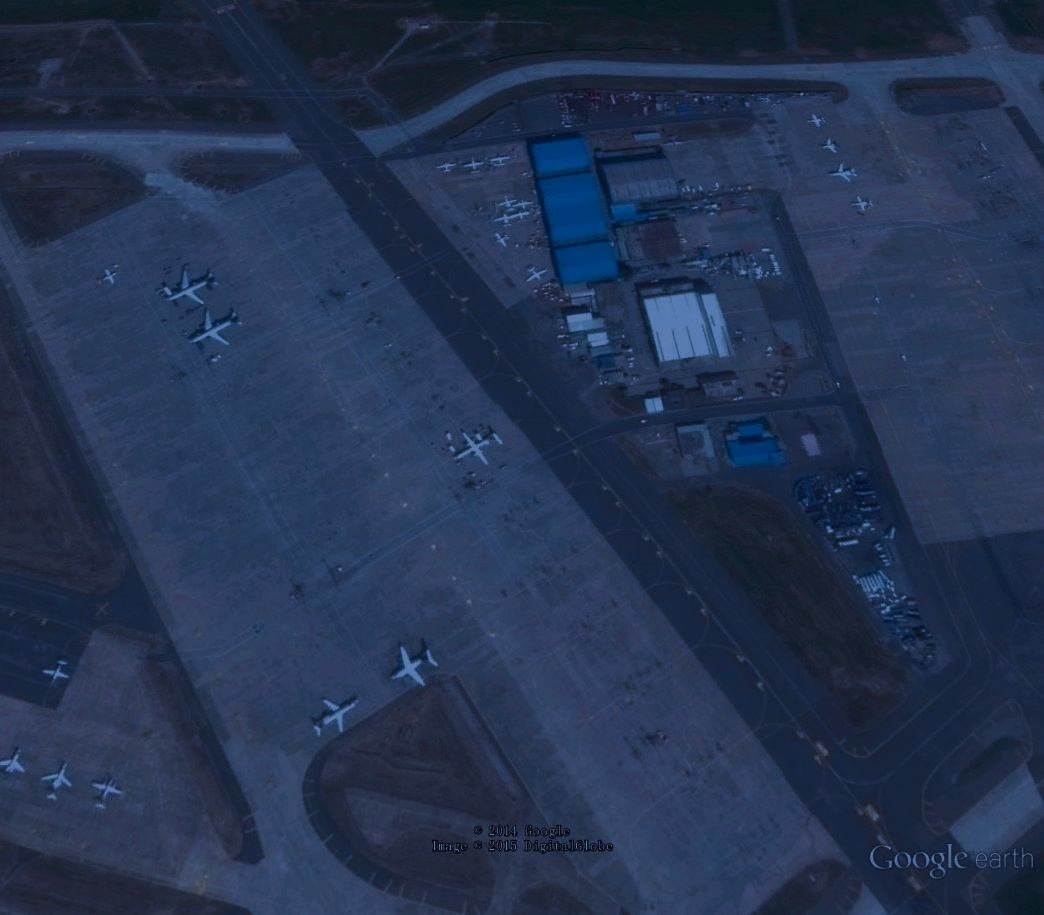aircraft: (384, 638, 440, 693), (158, 264, 219, 310), (185, 305, 244, 352), (308, 694, 363, 743), (452, 428, 506, 472), (39, 759, 74, 805), (87, 772, 125, 812), (38, 655, 74, 688), (828, 160, 862, 185), (94, 266, 119, 291), (524, 264, 551, 285), (494, 211, 523, 230), (851, 195, 876, 215), (459, 157, 486, 175), (487, 153, 514, 169), (806, 111, 827, 131), (820, 137, 843, 155), (510, 199, 537, 214), (495, 194, 518, 211), (493, 231, 514, 249), (509, 209, 534, 223), (437, 160, 458, 175)
